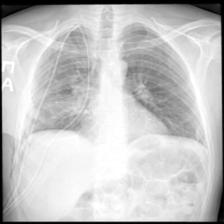tuberculosis: (11, 16, 211, 221)
